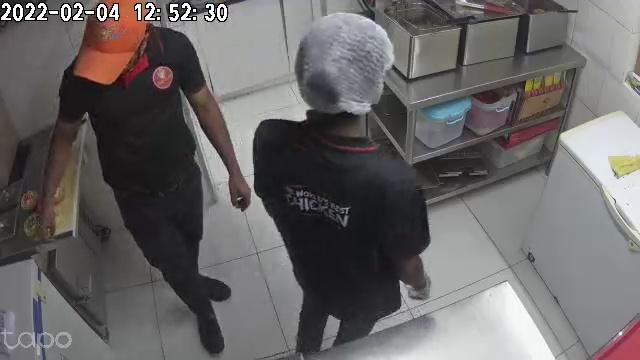no_gloves: (222, 160, 253, 212)
